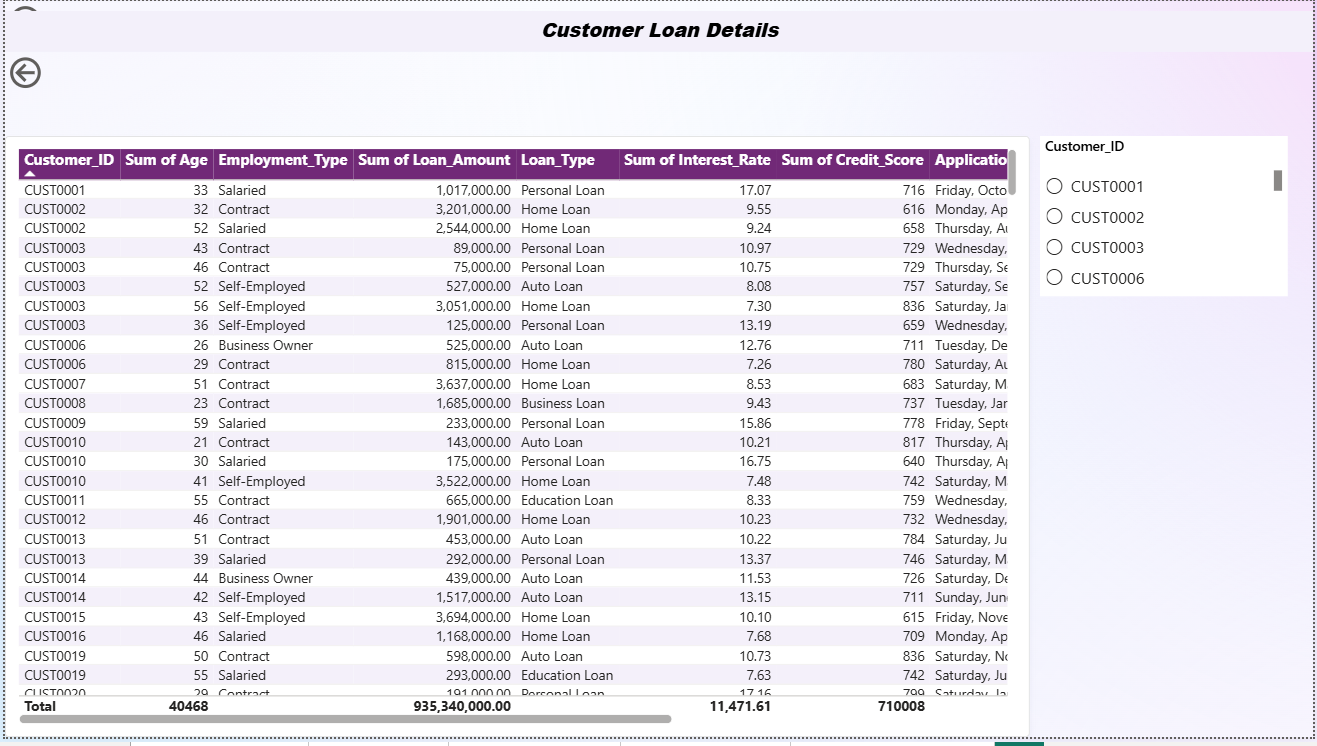

What the dashboard file says about the page in this screenshot:
{"tool":"powerbi","page":{"name":"Customer Loan Details","canvas":[1280,720],"ordinal":4},"visuals":[{"type":"actionButton","box":[0,0,100,40],"z":0},{"type":"actionButton","box":[0,50.1,100,40],"z":1000},{"type":"tableEx","fields":{"Values":["Fact_Loans.Customer_ID","Sum(Fact_Loans.Age)","Fact_Loans.Employment_Type","Sum(Fact_Loans.Loan_Amount)","Fact_Loans.Loan_Type","Sum(Fact_Loans.Interest_Rate)","Sum(Fact_Loans.Credit_Score)","Fact_Loans.Application_Date","Fact_Loans.Application_Status","Fact_Loans.Payment_Status","Fact_Loans.Default_Status"]},"box":[0,132.1,1002.7,588.2],"z":2000},{"type":"cardVisual","fields":{"Rows":["Fact_Loans.Customer_ID"]},"box":[1012.5,132.1,267.8,200.5],"z":3000},{"type":"textbox","box":[0,9.8,1280.3,40.4],"z":4000}]}

Visuals, with their boxes in screenshot pixels (x1, y1, x2, y2), scaled from the page's 1280x720 canvas onto the 1317x746 screenshot:
actionButton: (left=0, top=0, right=103, bottom=41)
actionButton: (left=0, top=52, right=103, bottom=93)
tableEx - Fact_Loans.Customer_ID x Sum(Fact_Loans.Age): (left=0, top=137, right=1032, bottom=745)
cardVisual - Fact_Loans.Customer_ID: (left=1042, top=137, right=1316, bottom=345)
textbox: (left=0, top=10, right=1316, bottom=52)
